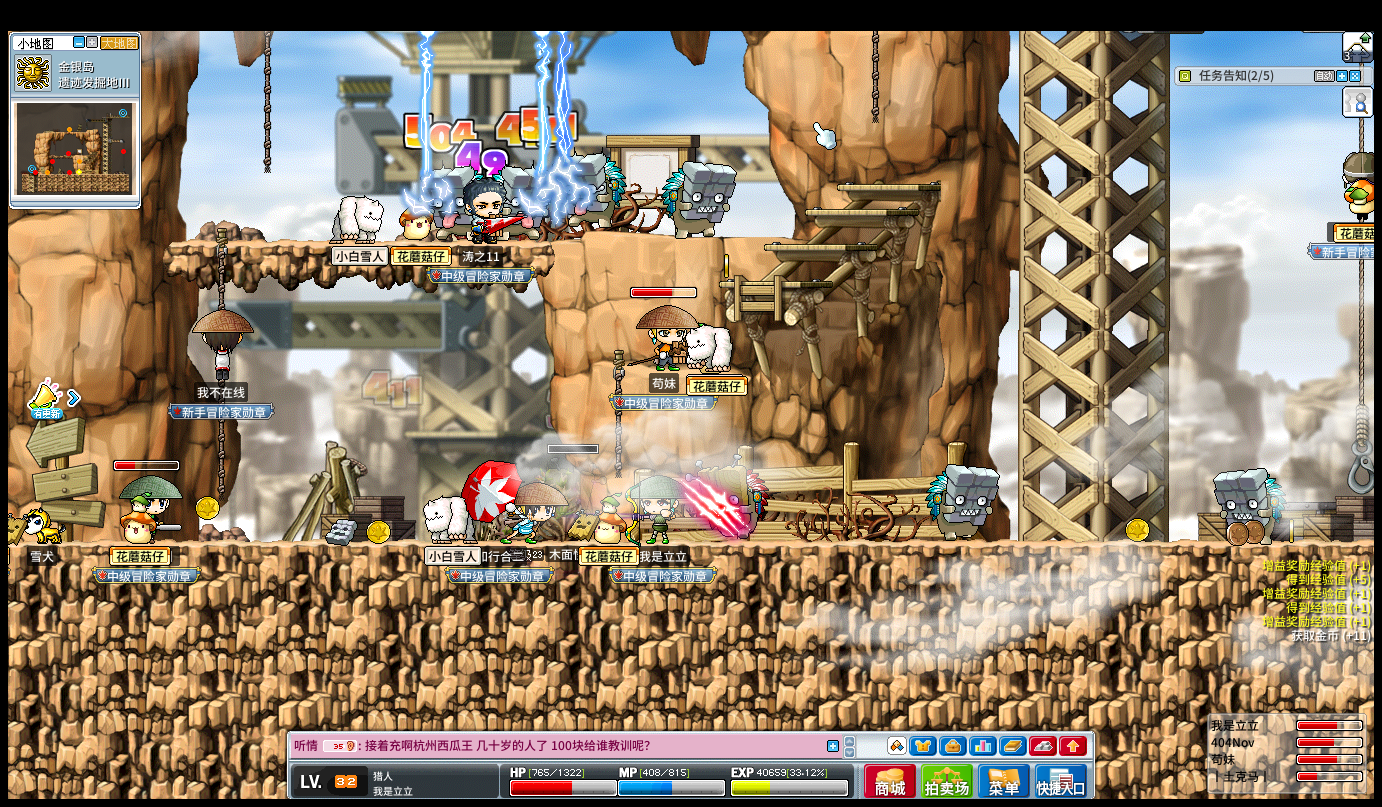floor: (161, 238, 559, 249), (603, 232, 805, 245), (719, 279, 829, 289), (801, 207, 914, 215), (837, 184, 941, 192), (760, 243, 875, 250)
monster: (662, 160, 736, 239), (926, 464, 999, 541), (1213, 468, 1285, 543), (565, 152, 626, 231), (497, 164, 542, 238), (425, 166, 472, 236)
rope: (261, 30, 271, 173), (1357, 259, 1365, 405), (613, 356, 622, 477), (213, 226, 225, 308), (215, 419, 226, 495), (218, 420, 228, 496), (869, 30, 877, 122), (1355, 407, 1370, 439), (1359, 117, 1364, 152)
